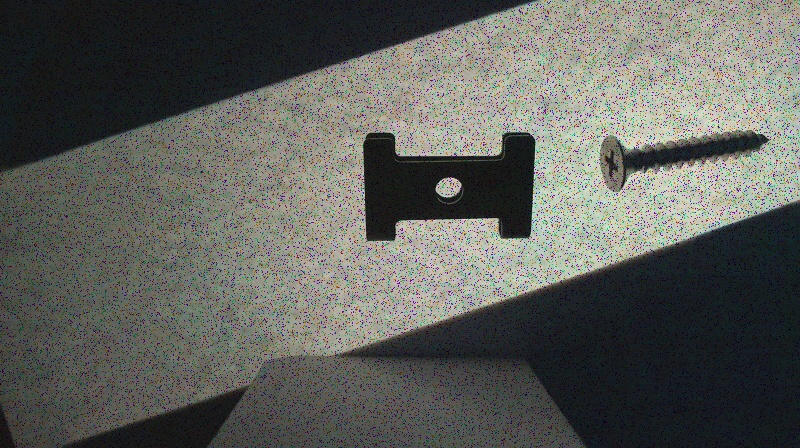O002: (360, 127, 536, 243)
S001: (597, 128, 773, 190)
